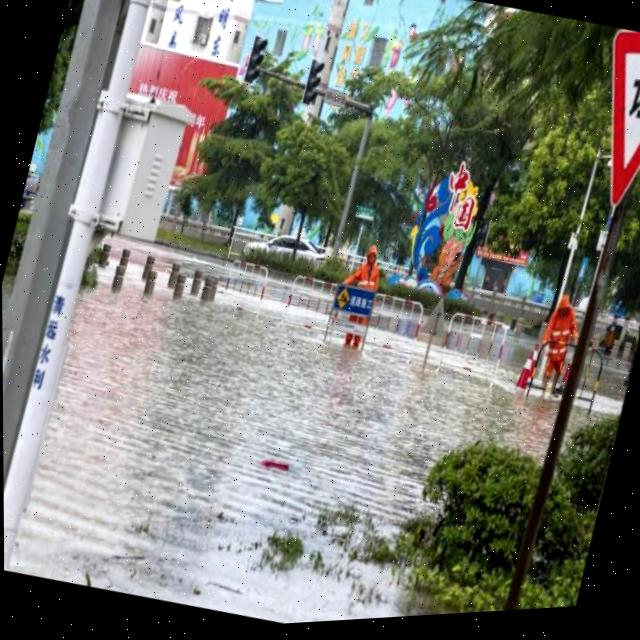rescuer: (326, 239, 395, 362), (526, 286, 588, 400)
